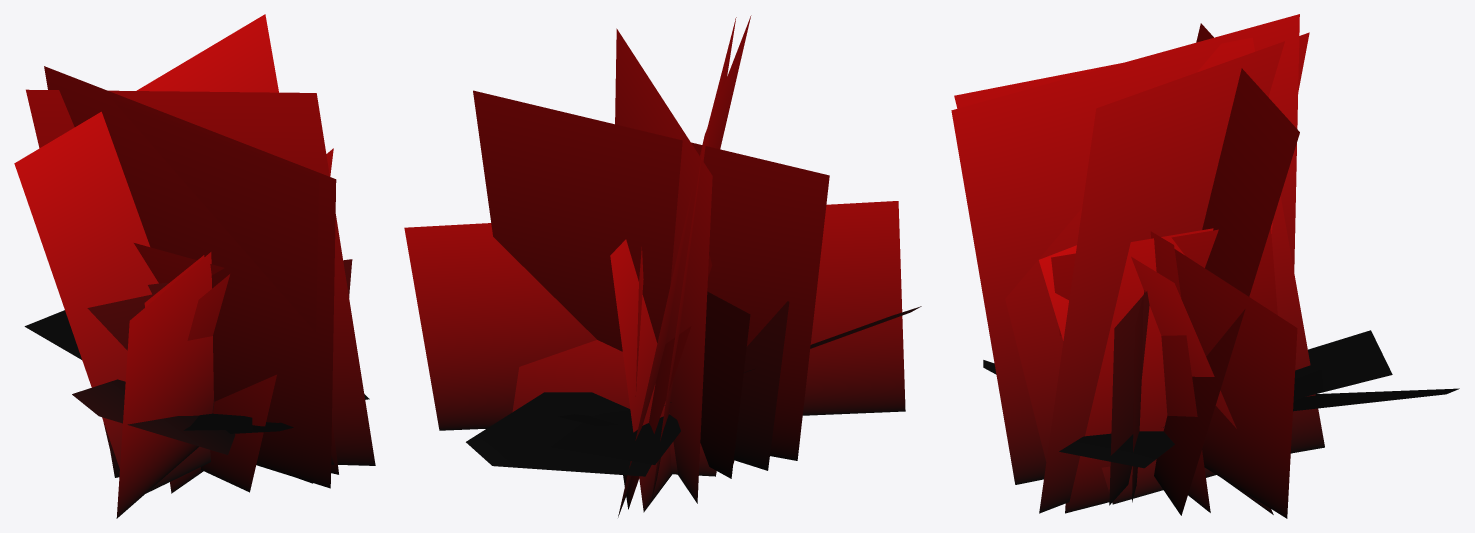
Rendered from Grass_01.FBX.
The picture shows the model from 3 angles, left to right: view 1: azimuth 30°, elevation 25°; view 2: azimuth 150°, elevation 25°; view 3: azimuth 270°, elevation 25°; orthographic projection. The views are drawn at different scales.
Parts seen in each view (by area): view 1: Meadow_Grass_01_Var1_LOD2; view 2: Meadow_Grass_01_Var1_LOD2; view 3: Meadow_Grass_01_Var1_LOD2.
Part boxes in pixels (x1,y1,x2,y2): Meadow_Grass_01_Var1_LOD2: (14,14,375,518); Meadow_Grass_01_Var1_LOD2: (404,15,921,517); Meadow_Grass_01_Var1_LOD2: (951,14,1459,518).
Size of the model in its own units: 31.46 by 30.75 by 34.46.
